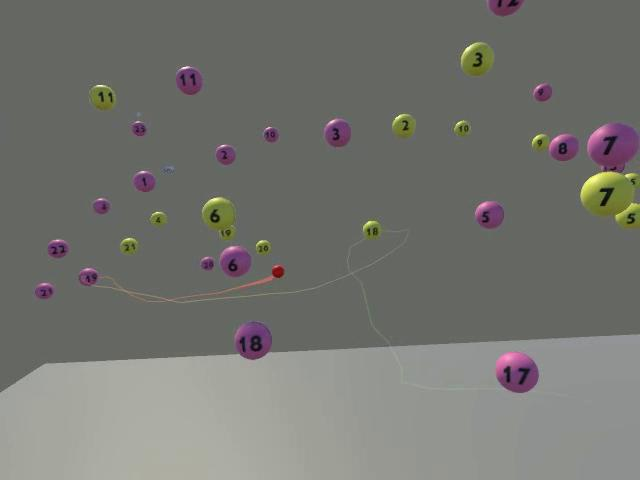ball_01_pink: (133, 170, 155, 191)
ball_02_pink: (215, 144, 235, 164)
ball_02_yellow: (392, 113, 416, 137)
ball_03_pink: (323, 118, 351, 147)
ball_03_yellow: (460, 41, 494, 76)
ball_04_pink: (92, 198, 110, 214)
ball_04_yellow: (149, 211, 167, 227)
ball_05_pink: (474, 201, 505, 229)
ball_05_yellow: (614, 202, 639, 228)
ball_06_pink: (219, 244, 251, 276)
ball_06_yellow: (201, 195, 235, 229)
ball_07_pink: (586, 122, 638, 167)
ball_07_yellow: (579, 170, 634, 216)
ball_08_pink: (548, 133, 578, 161)
ball_09_pink: (532, 83, 552, 101)
ball_09_yellow: (531, 133, 549, 151)
ball_10_pink: (263, 126, 278, 142)
ball_10_yellow: (453, 119, 470, 136)
ball_11_pink: (175, 65, 202, 95)
ball_11_yellow: (88, 84, 115, 110)
ball_17_pink: (495, 351, 538, 392)
ball_18_pink: (233, 321, 271, 359)
ball_18_yellow: (362, 220, 381, 240)
ball_19_pink: (78, 268, 98, 287)
ball_19_yellow: (218, 224, 235, 240)
ball_20_pink: (199, 257, 215, 271)
ball_20_yellow: (255, 239, 270, 255)
ball_21_pink: (34, 282, 53, 299)
ball_21_yellow: (119, 238, 139, 256)
ball_22_pink: (47, 237, 69, 256)
ball_25_pink: (131, 121, 146, 136)
ball_unknown: (486, 0, 524, 16), (601, 162, 624, 173), (624, 172, 639, 188), (271, 264, 284, 278)
